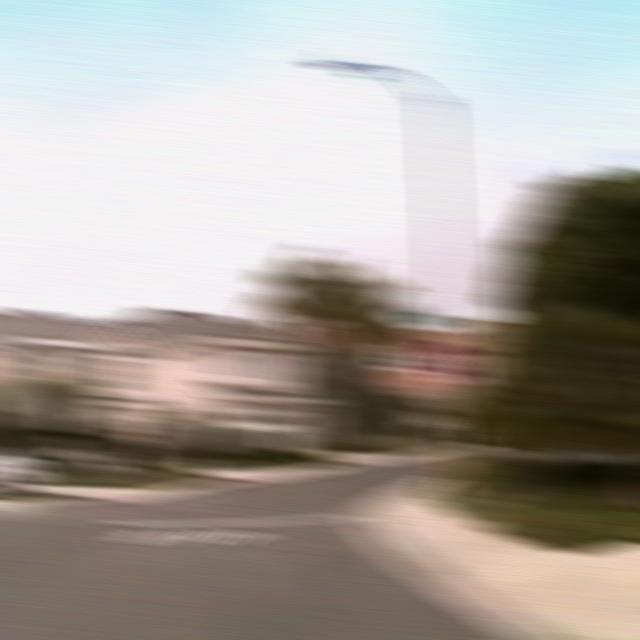stop_sign: (424, 338, 472, 382)
